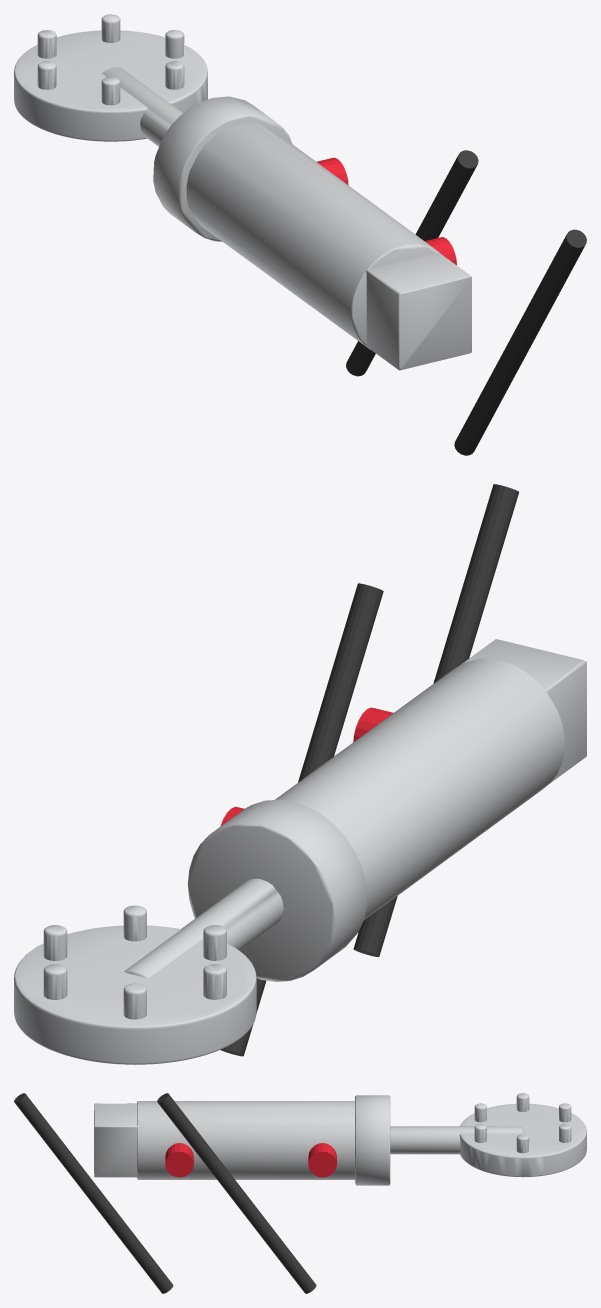
The model's file is trans_shiftmechanism.glb.
3 renders of one model, top to bottom at view 1: azimuth 30°, elevation 25°; view 2: azimuth 150°, elevation 25°; view 3: azimuth 270°, elevation 25°, orthographic. The views are drawn at different scales.
Visible parts, largest first — view 1: Shift_Cylinder_Body, Shift_Ratchet_Wheel, Pneumatic_Line_0, Pneumatic_Line_1; view 2: Shift_Cylinder_Body, Shift_Ratchet_Wheel, Pneumatic_Line_0, Pneumatic_Line_1; view 3: Shift_Cylinder_Body, Shift_Ratchet_Wheel, Pneumatic_Line_1, Pneumatic_Line_0, Banjo_Fitting_0, Banjo_Fitting_1.
Part boxes in pixels (x1,y1,x2,y2): Shift_Cylinder_Body: (102,67,471,370); Shift_Ratchet_Wheel: (14,14,207,141); Pneumatic_Line_0: (454,229,586,455); Pneumatic_Line_1: (346,150,478,376); Shift_Cylinder_Body: (124,639,586,981); Shift_Ratchet_Wheel: (14,905,256,1064); Pneumatic_Line_0: (353,484,519,956); Pneumatic_Line_1: (220,583,383,1056); Shift_Cylinder_Body: (94,1095,522,1185); Shift_Ratchet_Wheel: (459,1093,586,1177); Pneumatic_Line_1: (157,1093,316,1293); Pneumatic_Line_0: (14,1093,173,1293); Banjo_Fitting_0: (165,1143,193,1177); Banjo_Fitting_1: (308,1143,336,1177).
Bounding box in the file's own units: 0.0947 × 0.1532 × 0.4005.
